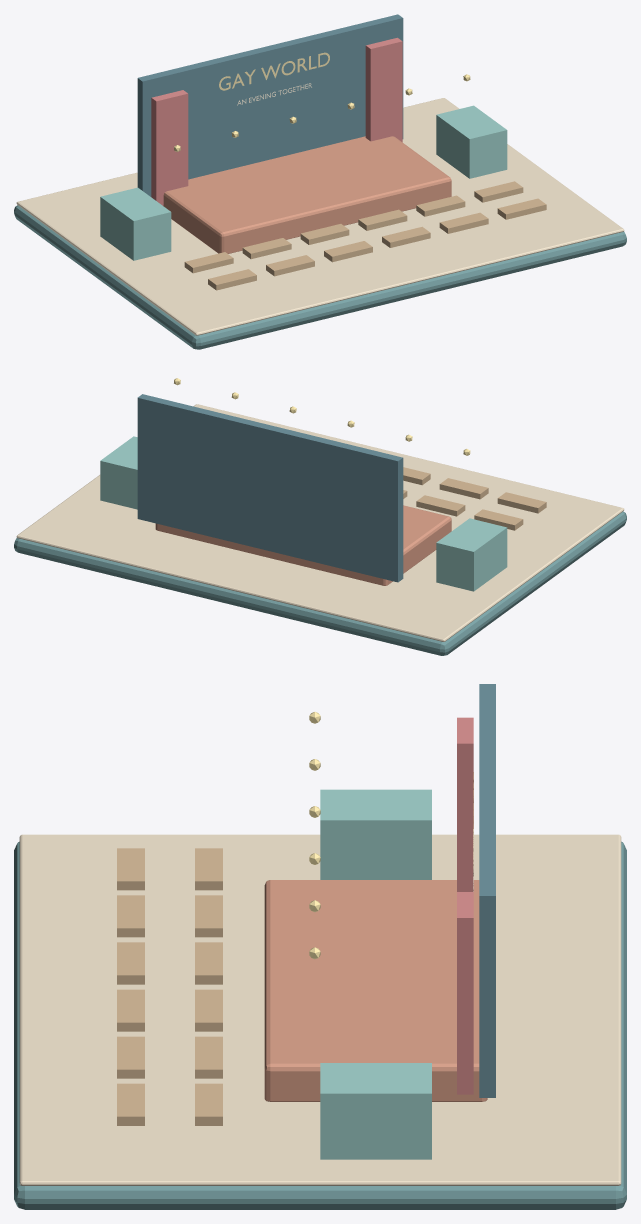
File: stage.glb
3 renders of one model, top to bottom at view 1: azimuth 30°, elevation 25°; view 2: azimuth 150°, elevation 25°; view 3: azimuth 270°, elevation 25°, orthographic. The views are drawn at different scales.
Parts seen in each view (by area): view 1: Paving, Theatre back, Performance stage, Stage base, Food stall, Food stall.001, Red curtain, Red curtain.001, GAY WORLD, Audience bench.009, Audience bench.010, Audience bench.011 (+9 smaller); view 2: Theatre back, Paving, Stage base, Food stall, Performance stage, Food stall.001, Audience bench.001, Audience bench.003, Audience bench.002, Audience bench; view 3: Paving, Performance stage, Stage base, Food stall.001, Food stall, Theatre back, Red curtain.001, Red curtain, Audience bench, Audience bench.001, Audience bench.002, Audience bench.003 (+8 smaller).
Boxes of the visible parts, x1,y1,x2,y2 form: Paving: [16, 98, 624, 335]; Theatre back: [137, 14, 403, 196]; Performance stage: [163, 136, 451, 253]; Stage base: [14, 205, 626, 349]; Food stall: [100, 187, 171, 260]; Food stall.001: [436, 105, 507, 178]; Red curtain: [151, 90, 188, 205]; Red curtain.001: [365, 37, 402, 142]; GAY WORLD: [219, 52, 329, 90]; Audience bench.009: [439, 212, 488, 233]; Audience bench.010: [474, 181, 523, 202]; Audience bench.011: [497, 198, 546, 219]; Theatre back: [137, 394, 403, 582]; Paving: [16, 404, 624, 641]; Stage base: [14, 511, 626, 655]; Food stall: [436, 518, 507, 591]; Performance stage: [155, 505, 451, 585]; Food stall.001: [100, 436, 137, 509]; Audience bench.001: [497, 492, 546, 513]; Audience bench.003: [439, 478, 488, 499]; Audience bench.002: [416, 495, 465, 516]; Audience bench: [474, 509, 523, 530]; Paving: [19, 834, 621, 1185]; Performance stage: [264, 880, 487, 1101]; Stage base: [14, 841, 626, 1209]; Food stall.001: [320, 1063, 431, 1159]; Food stall: [320, 789, 431, 879]; Theatre back: [479, 684, 495, 1097]; Red curtain.001: [457, 892, 473, 1094]; Red curtain: [457, 717, 473, 891]; Audience bench: [195, 848, 222, 890]; Audience bench.001: [117, 848, 144, 890]; Audience bench.002: [195, 895, 222, 937]; Audience bench.003: [117, 895, 144, 937].
Size of the model in its own units: 15 by 4.9 by 11.
